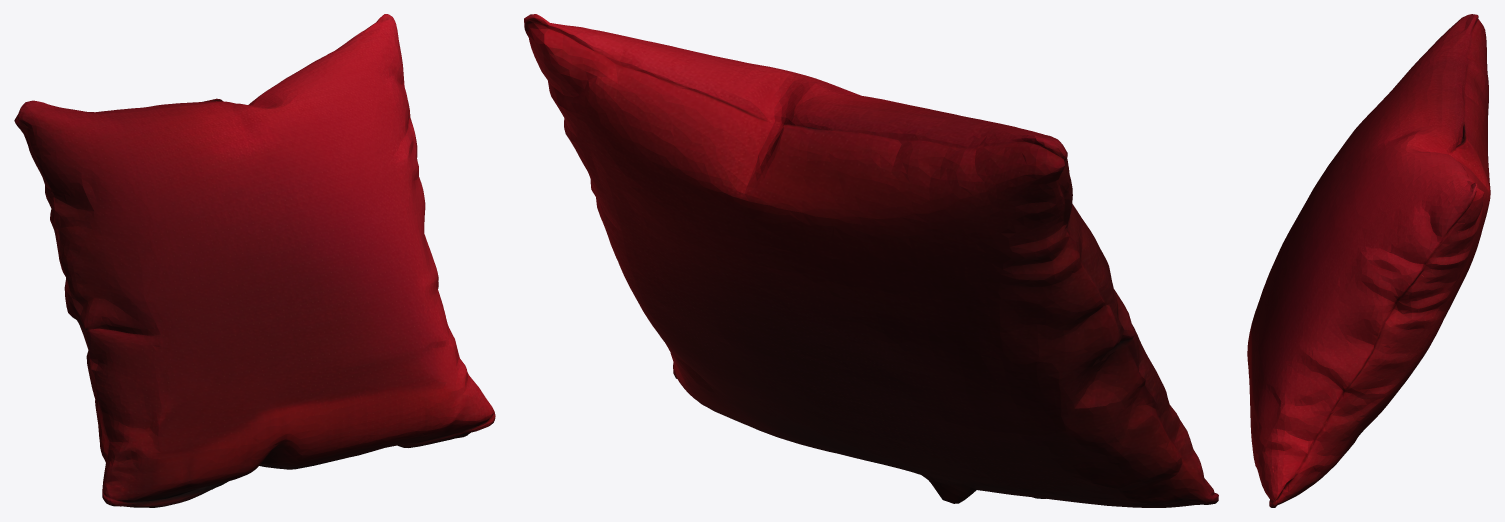
The picture shows the model from 3 angles, left to right: view 1: azimuth 30°, elevation 25°; view 2: azimuth 150°, elevation 25°; view 3: azimuth 270°, elevation 25°; orthographic projection. The views are drawn at different scales.
Parts seen in each view (by area): view 1: world; view 2: world; view 3: world.
Boxes of the visible parts, x1,y1,x2,y2 form: world: (14, 14, 495, 507); world: (524, 14, 1218, 507); world: (1247, 14, 1490, 507).
Size of the model in its own units: 1 by 0.8459 by 0.559.
Materials: 1 (1 with a texture image).
